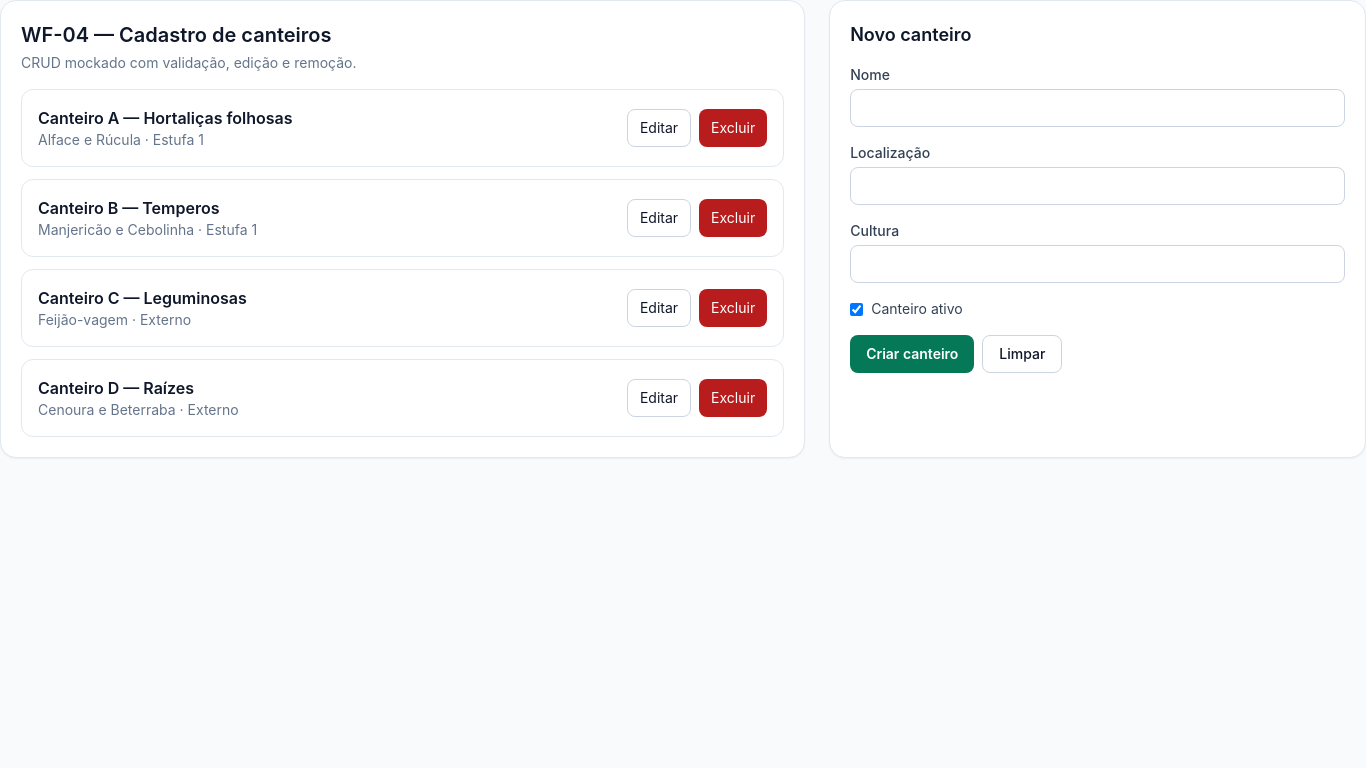
Scenario: valida formulário e cria novo canteiro
Check: the heading "WF-04 — Cadastro de canteiros" is shown, box [21,23,332,47]
Click the button "Criar canteiro": (912, 354) [850,335,974,373]
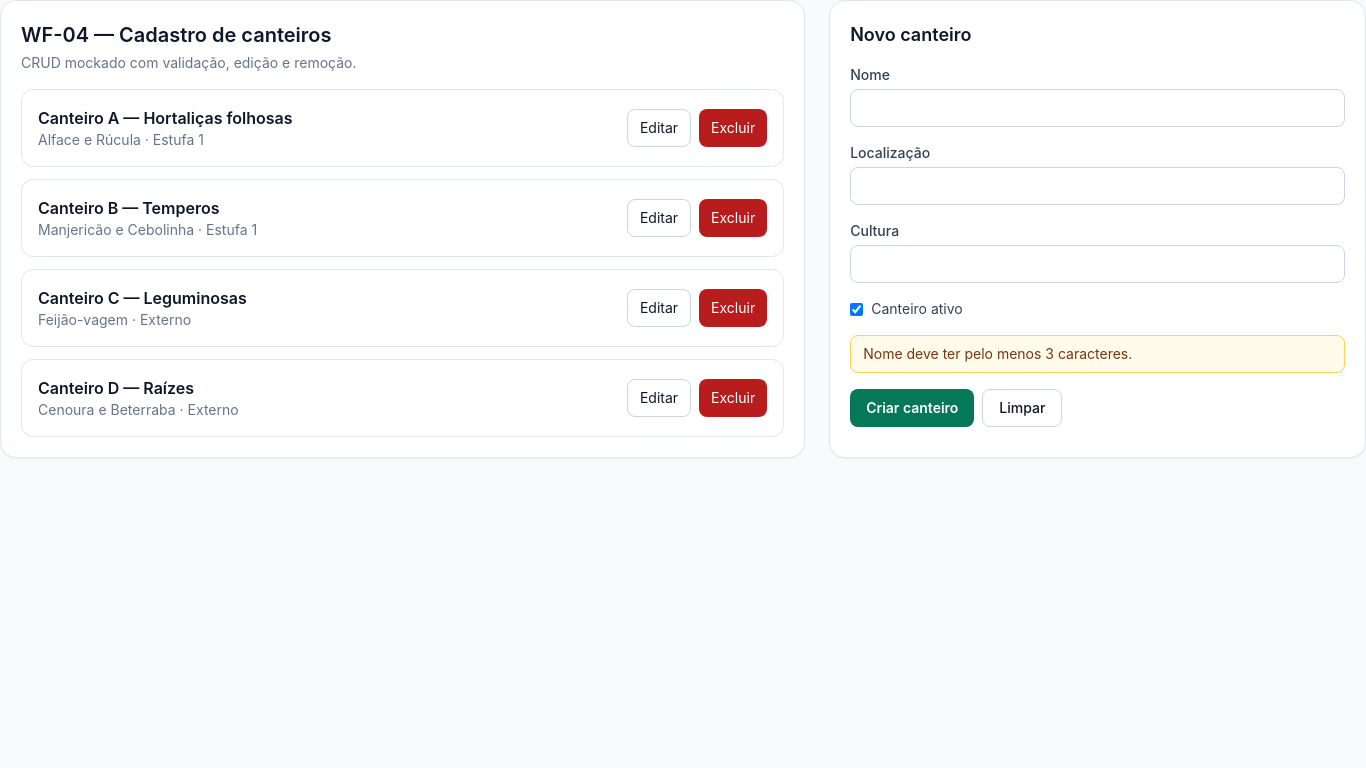
Check: the text "Nome deve ter pelo menos 3 caracteres." is shown, box [850,335,1345,373]
In the field labelled "Nome": (1098, 108) [850,89,1345,127], type "Canteiro E — Teste"
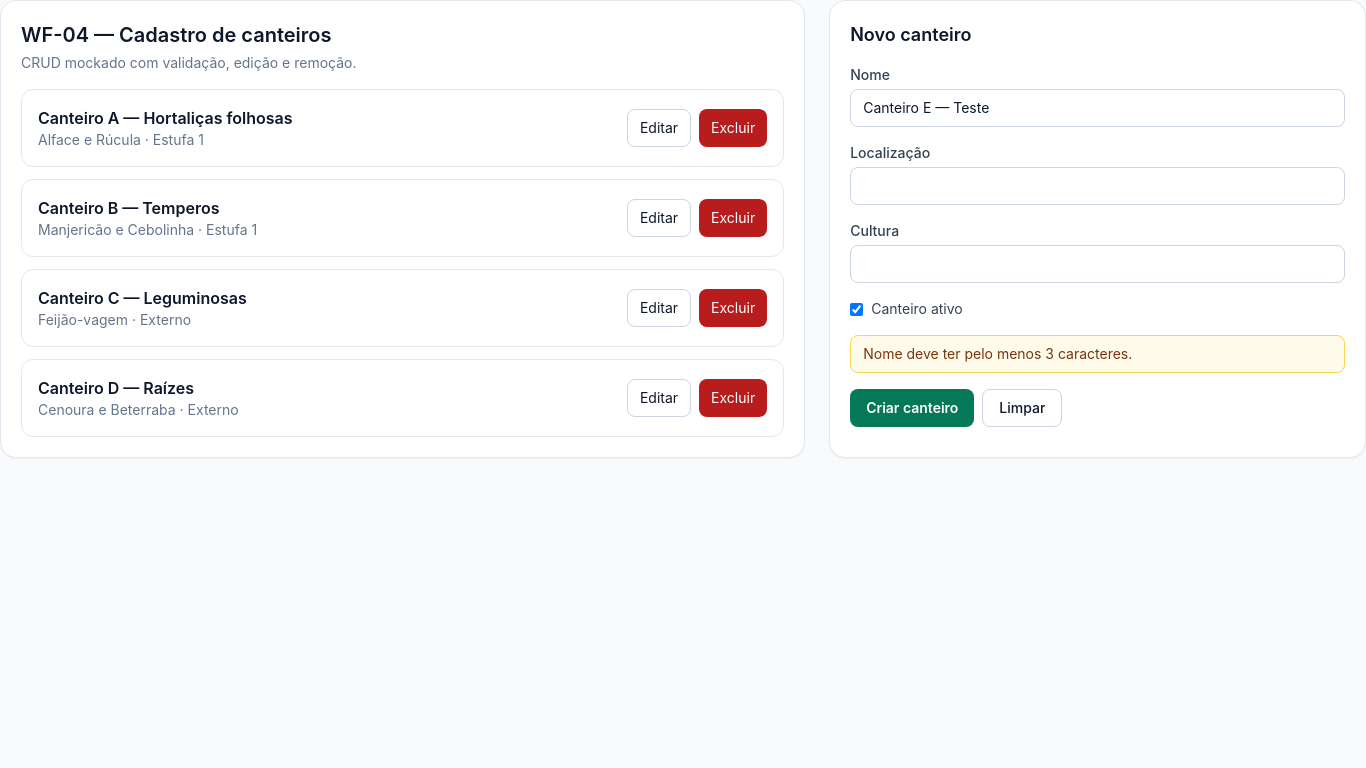
In the field labelled "Localização": (1098, 186) [850,167,1345,205], type "Estufa 3"
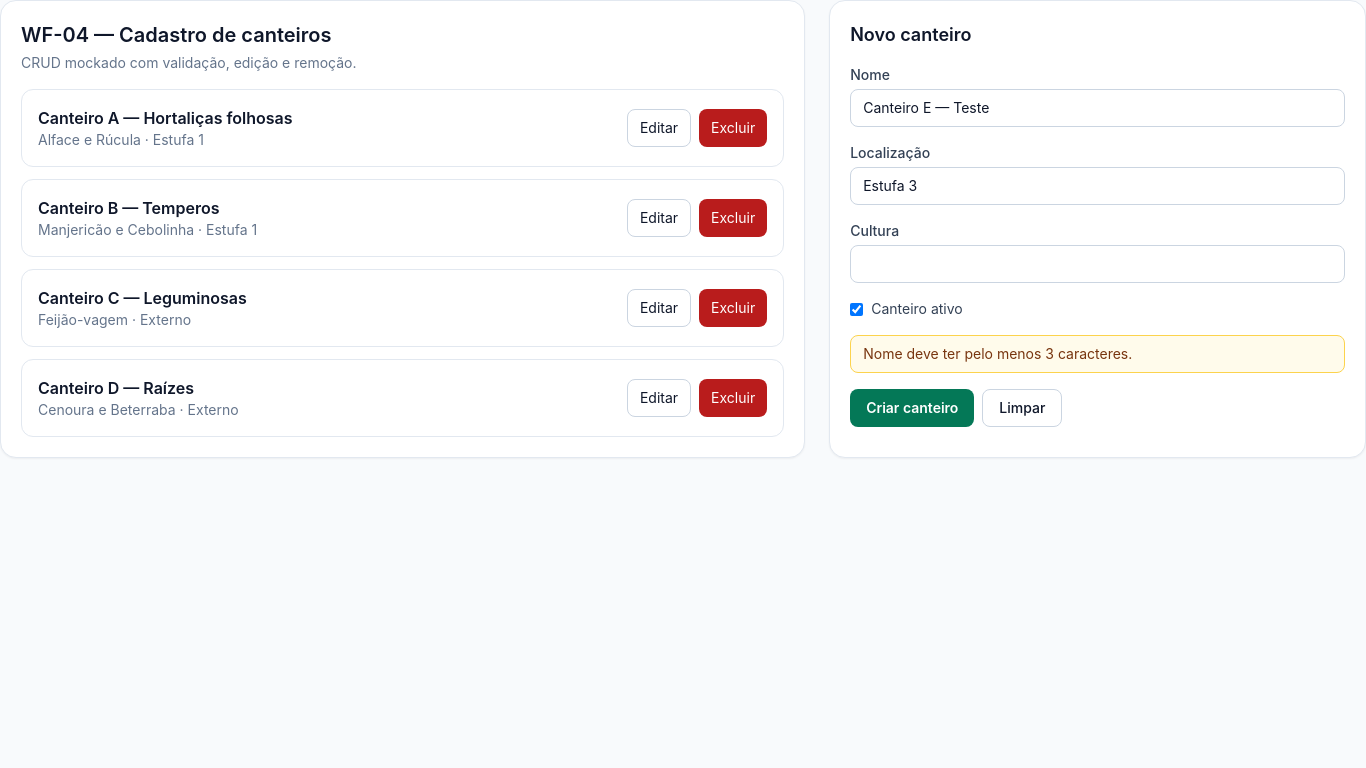
In the field labelled "Cultura": (1098, 264) [850,245,1345,283], type "Almeirão"
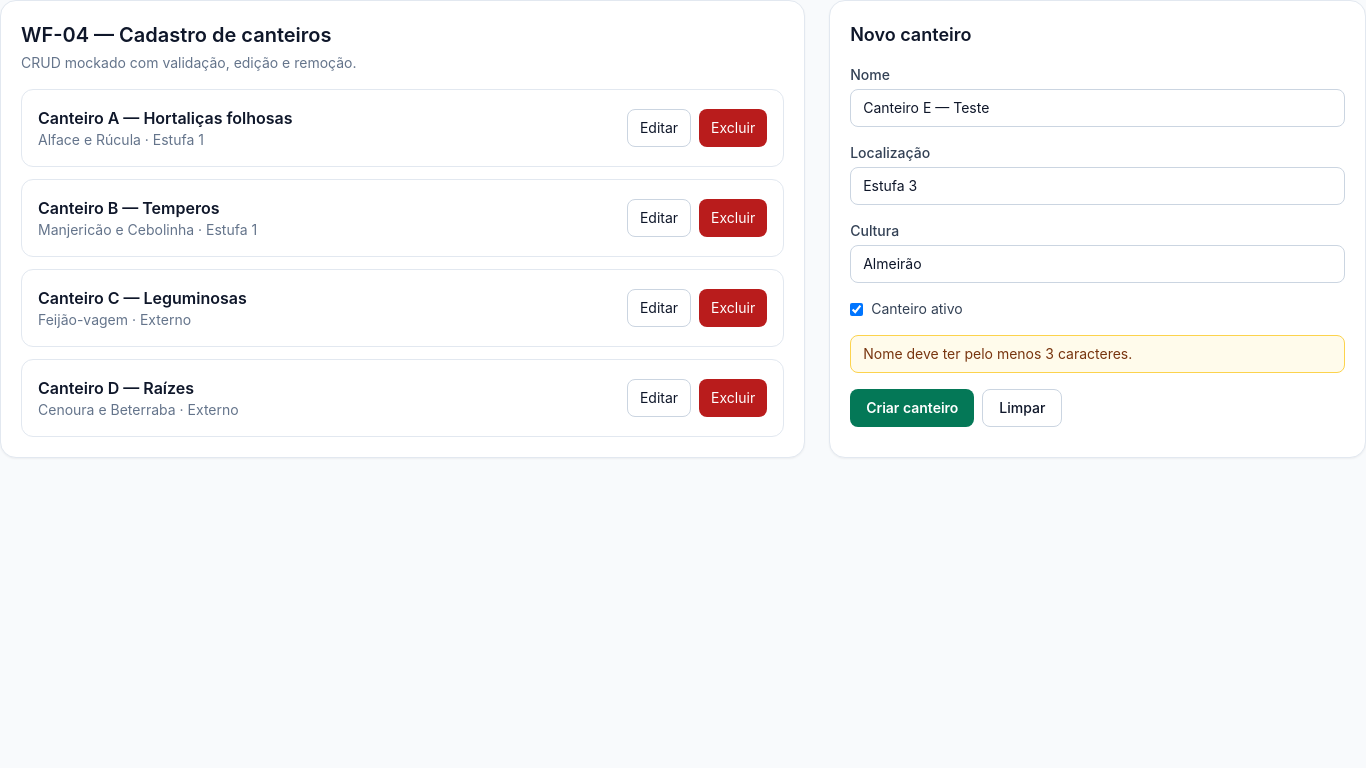
Click the button "Criar canteiro": (912, 408) [850,389,974,427]
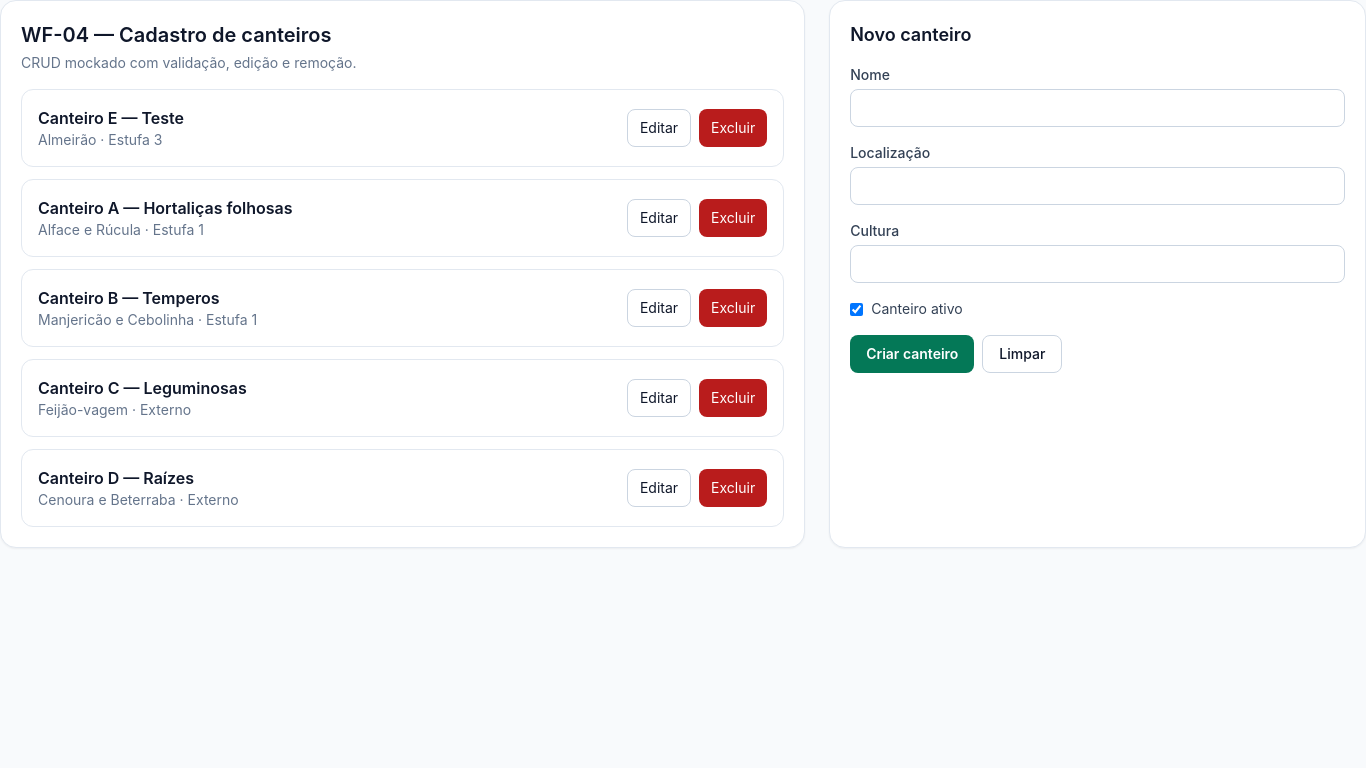
Check: the heading "Canteiro E — Teste" is shown, box [38,106,184,130]
